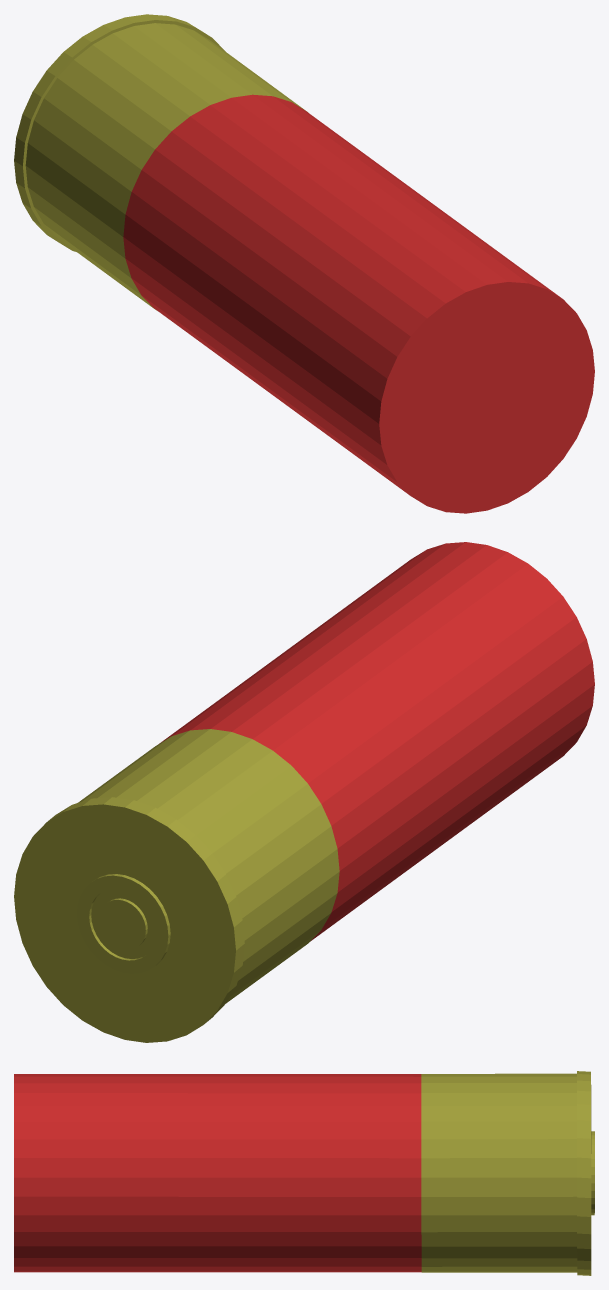
File: shotgunShell.glb
3 views of the same model, one above another, from view 1: azimuth 30°, elevation 25°; view 2: azimuth 150°, elevation 25°; view 3: azimuth 270°, elevation 25° (orthographic). The views are drawn at different scales.
Parts seen in each view (by area): view 1: Cylinder, Cylinder.001; view 2: Cylinder, Cylinder.001, Cylinder.003; view 3: Cylinder, Cylinder.001, Cylinder.003.
Part boxes in pixels (left/top/right/bottom): Cylinder: left=123, top=94, right=594, bottom=513; Cylinder.001: left=14, top=14, right=308, bottom=310; Cylinder: left=159, top=542, right=594, bottom=941; Cylinder.001: left=14, top=729, right=339, bottom=1042; Cylinder.003: left=77, top=874, right=170, bottom=973; Cylinder: left=14, top=1074, right=421, bottom=1272; Cylinder.001: left=421, top=1071, right=591, bottom=1275; Cylinder.003: left=591, top=1131, right=594, bottom=1215.
Bounding box in the file's own units: 2.05 × 2.06 × 5.84.
2 materials, 2 textured.
